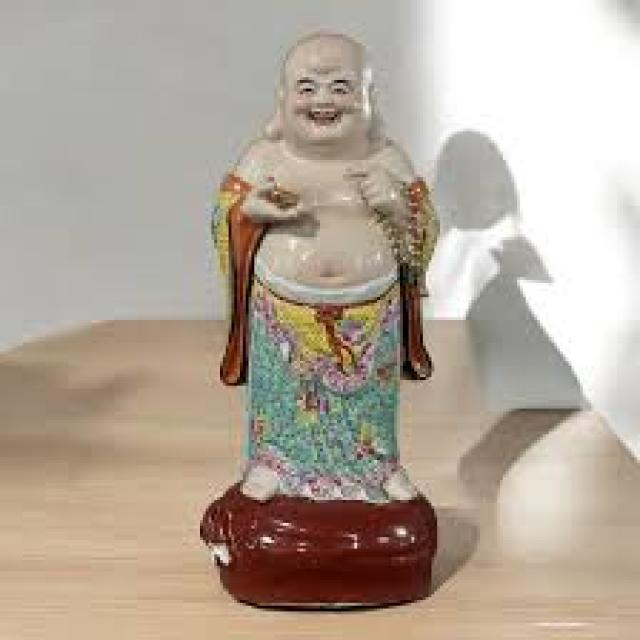Smiling Buddha: (210, 28, 439, 407)
